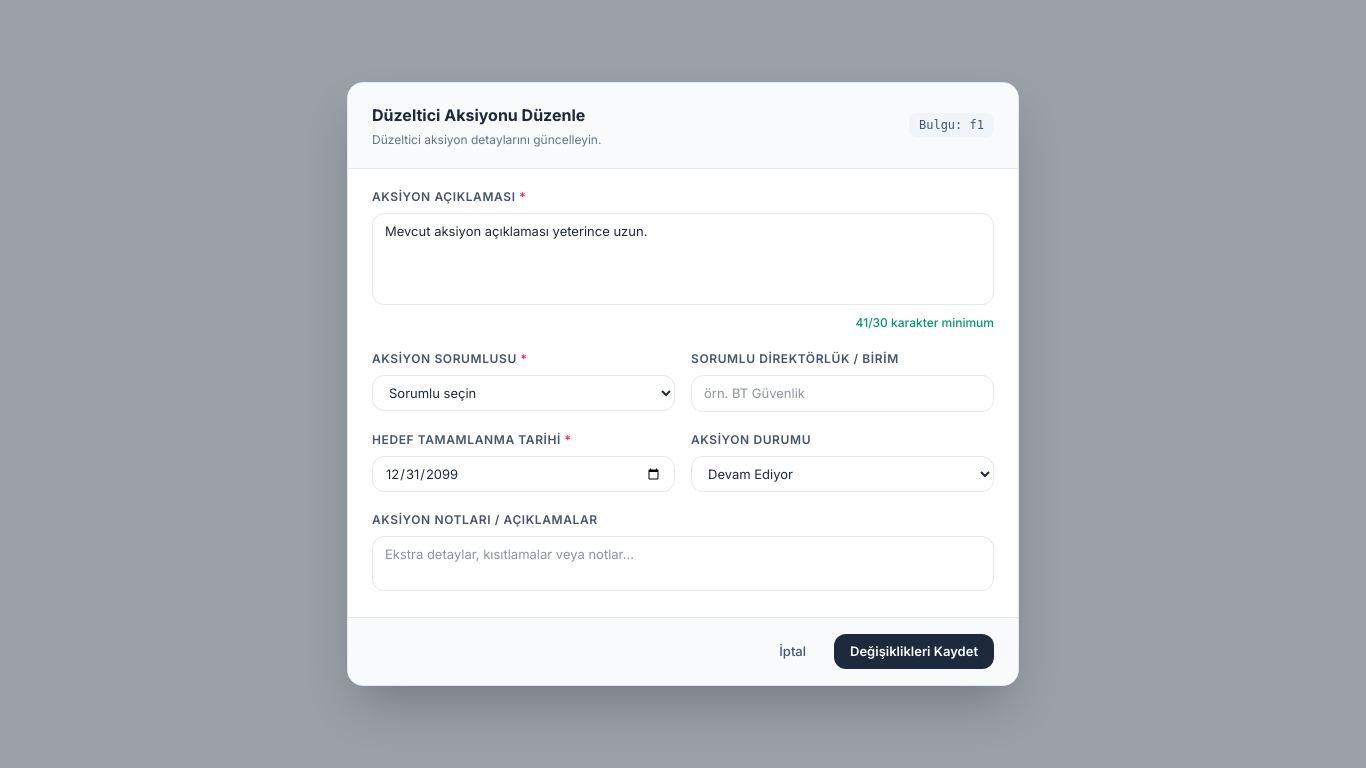
Test: Aksiyon tamamlama formu › backend hatasında açıklama ve form değerlerini korur, başarı gibi kapanmaz
The width and height of the screenshot is (1366, 768).
Replace the text in the text box with placeholder "Gerçekleştirilecek aksiyon adımlarını detaylıca açıklayın..." with "Kullanıcının düzenlediği ve kaybolmaması gereken açıklama.": (683, 259) [372,213,994,305]
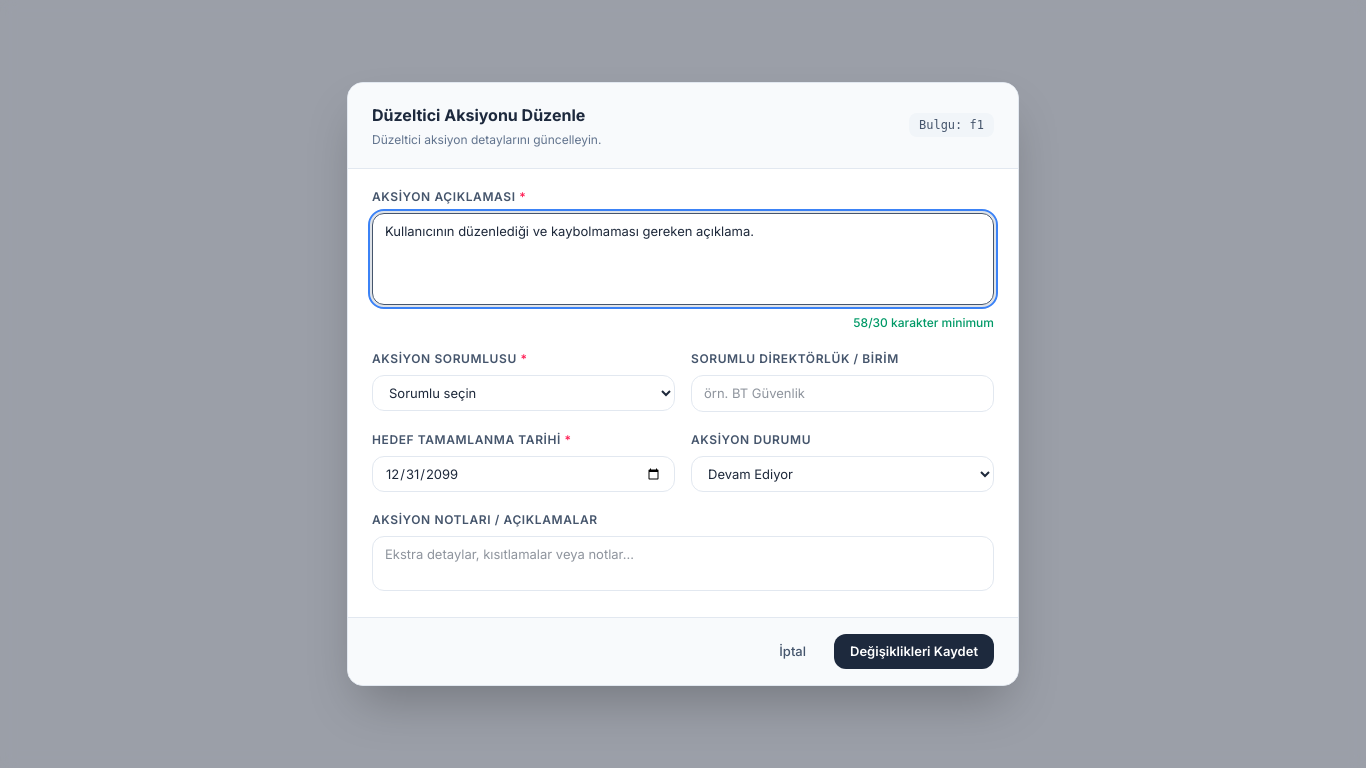
Click the button "Değişiklikleri Kaydet": (914, 652) [834,634,994,669]
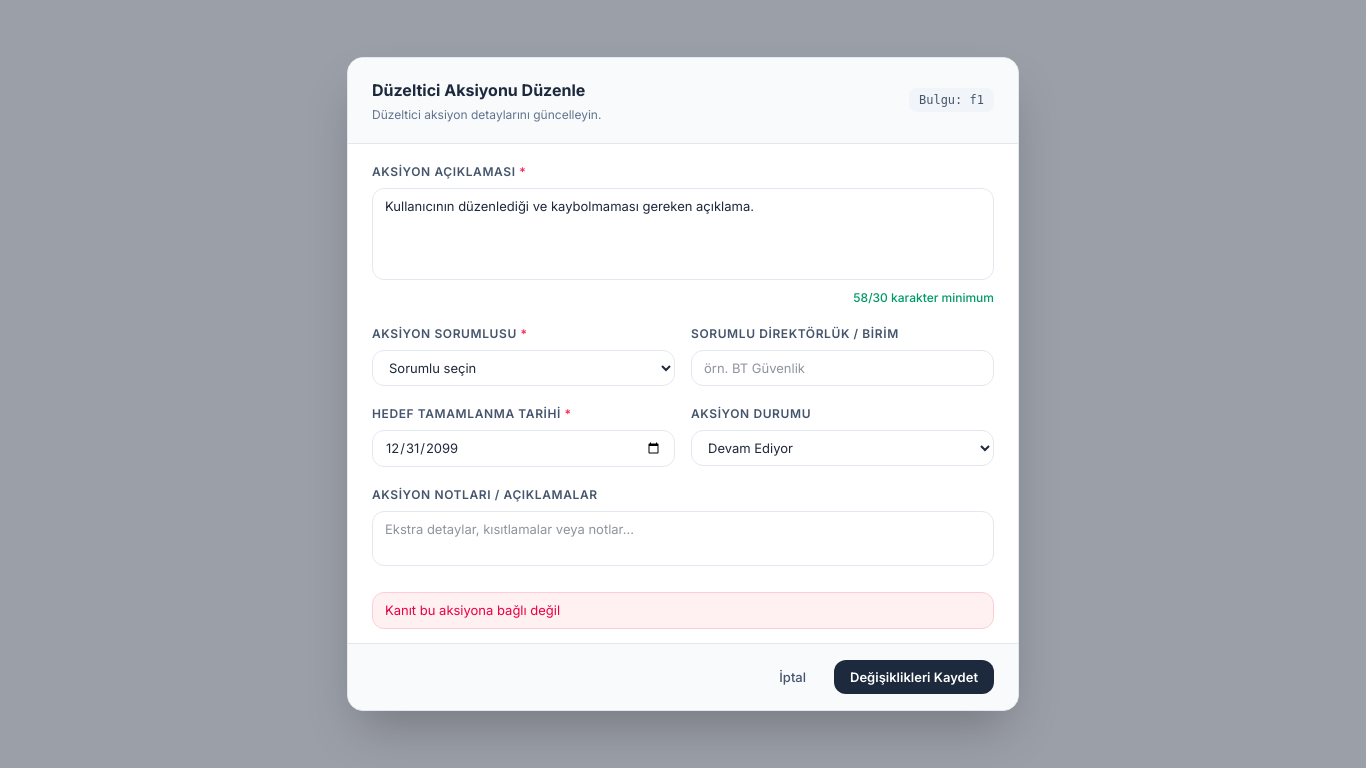
expect the message reads "Kanıt bu aksiyona bağlı değil": met, box [385,602,560,618]
